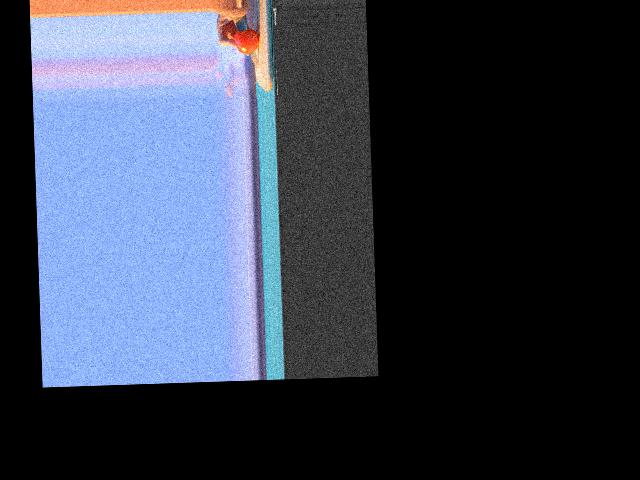tomato: (234, 28, 259, 54)
